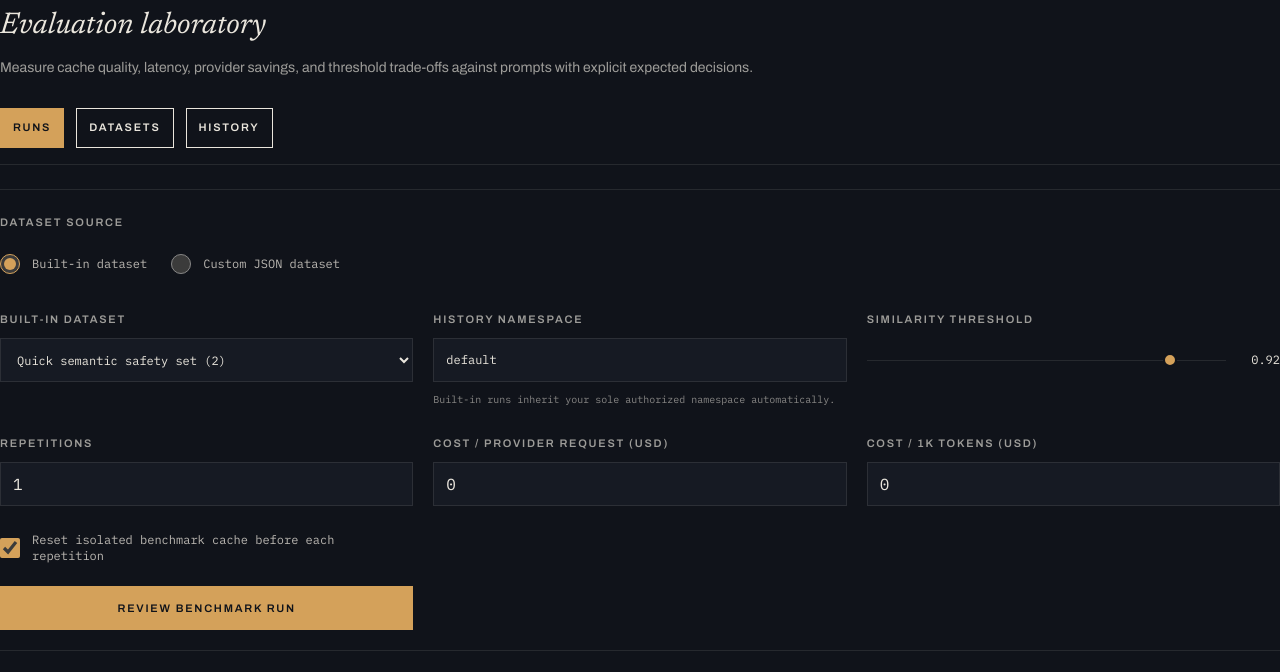
Test: BenchmarkDashboard › lets an authenticated operator complete the review flow
Click the button "Review benchmark run" at (207, 608), box 0,586 -> 413,630
(page scrolled)
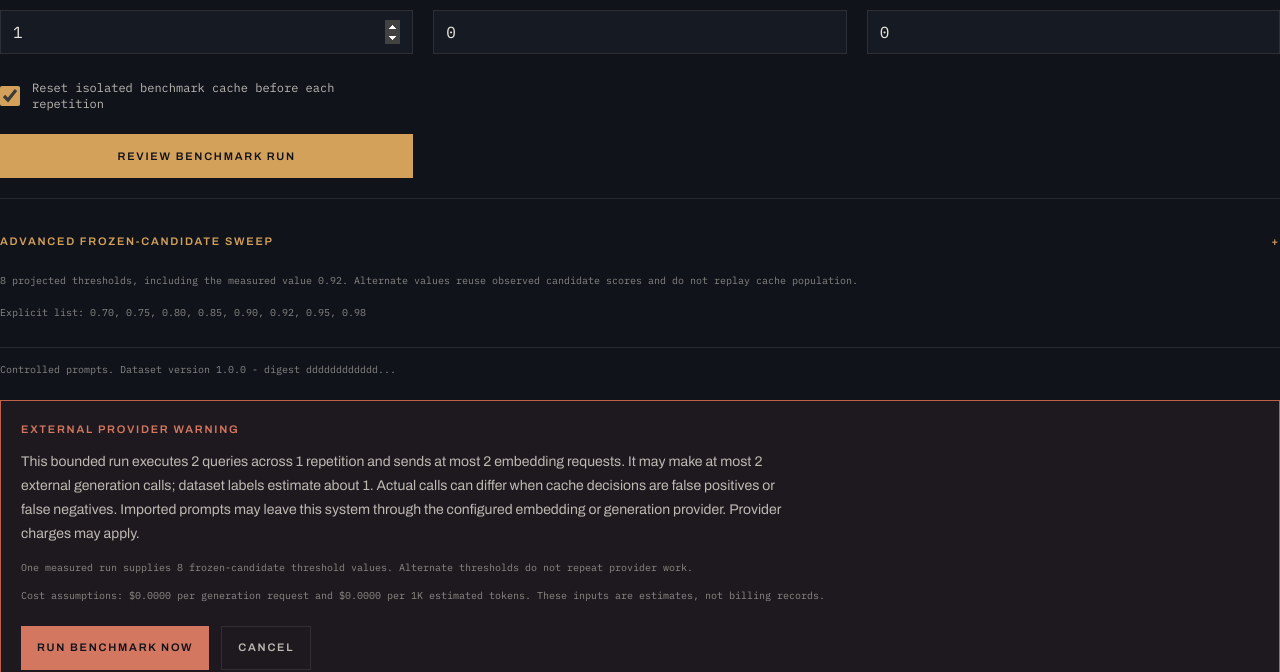
Click the button "Run benchmark now" at (115, 648), box 21,626 -> 209,670
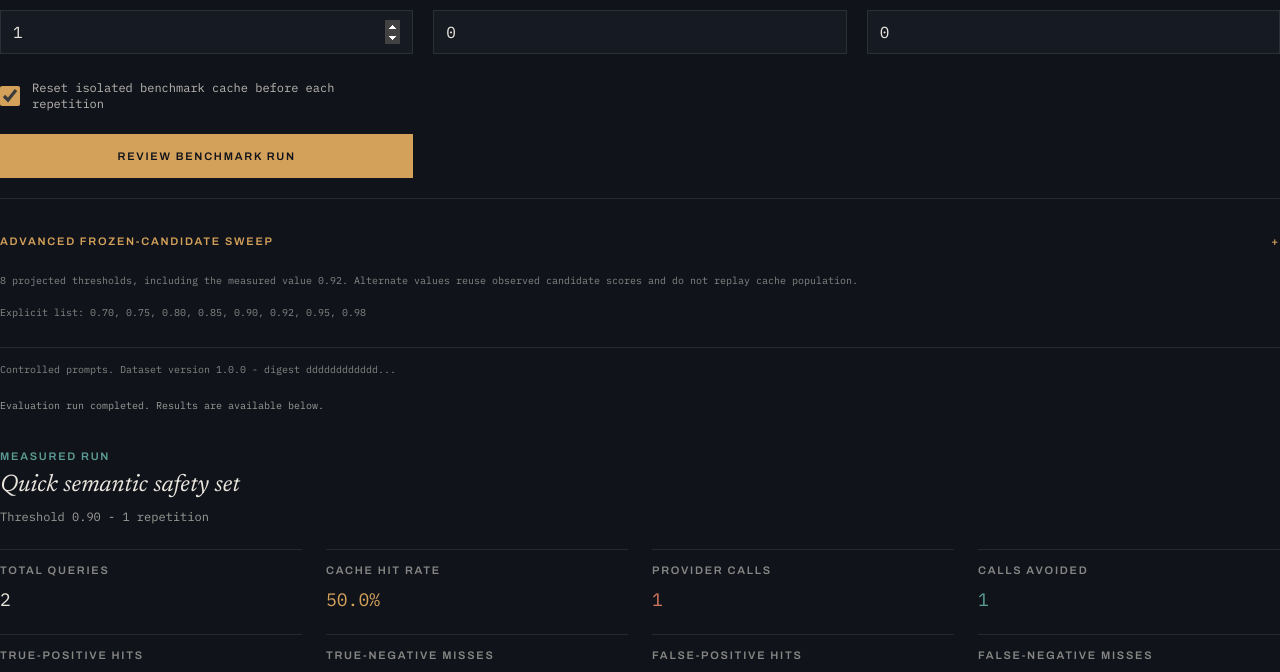
Check: the text "Evaluation run completed. Results are available below." is shown, box 0,399 -> 324,412
